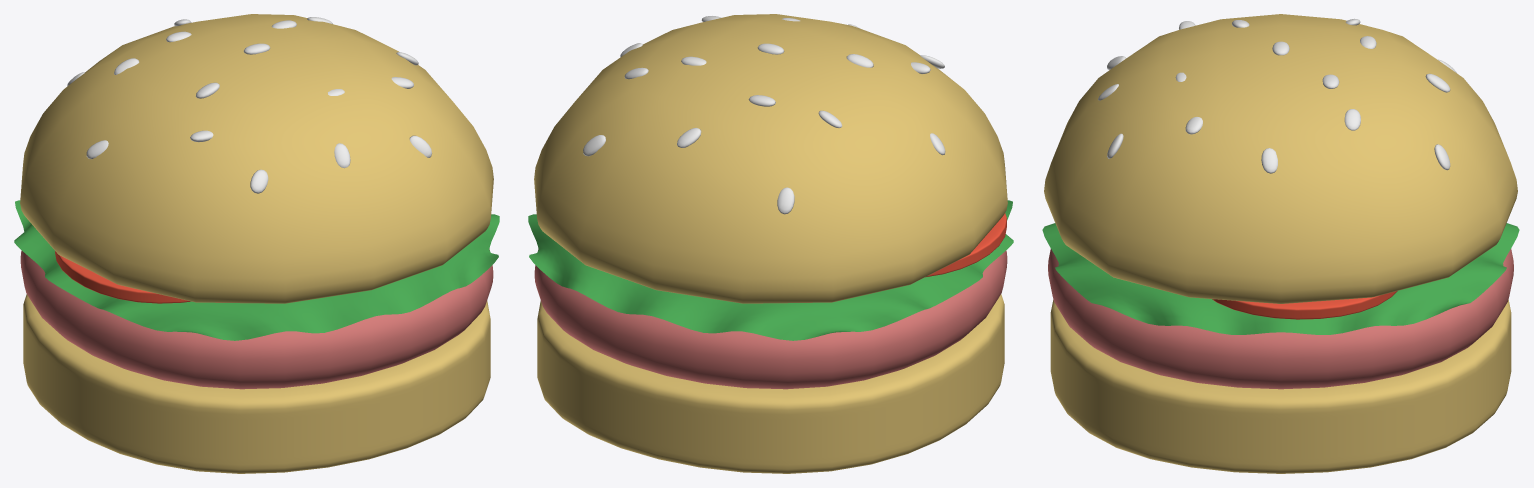
Rendered from burguer_cangreburguer.glb.
3 views of the same model, side by side, from view 1: azimuth 30°, elevation 25°; view 2: azimuth 150°, elevation 25°; view 3: azimuth 270°, elevation 25° (orthographic).
Parts seen in each view (by area): view 1: pan2_4, pan_6, carne_0, lettuce_1, semillas_5, tomate 1_2; view 2: pan2_4, pan_6, carne_0, lettuce_1, semillas_5, tomate 1_2; view 3: pan2_4, pan_6, carne_0, lettuce_1, semillas_5, tomate 2_3.
Boxes of the visible parts, bbox=[...] form: pan2_4: bbox=[20, 14, 493, 303]; pan_6: bbox=[23, 294, 490, 473]; carne_0: bbox=[20, 248, 493, 389]; lettuce_1: bbox=[14, 200, 499, 340]; semillas_5: bbox=[67, 17, 431, 193]; tomate 1_2: bbox=[55, 251, 190, 303]; pan2_4: bbox=[534, 14, 1007, 303]; pan_6: bbox=[537, 294, 1004, 473]; carne_0: bbox=[534, 248, 1007, 389]; lettuce_1: bbox=[528, 200, 1013, 340]; semillas_5: bbox=[583, 16, 945, 214]; tomate 1_2: bbox=[925, 213, 1006, 277]; pan2_4: bbox=[1044, 14, 1517, 303]; pan_6: bbox=[1050, 299, 1511, 473]; carne_0: bbox=[1048, 248, 1513, 389]; lettuce_1: bbox=[1042, 223, 1519, 334]; semillas_5: bbox=[1098, 18, 1456, 173]; tomate 2_3: bbox=[1212, 291, 1397, 319].
Bounding box in the file's own units: 1.93 × 1.49 × 1.9.
